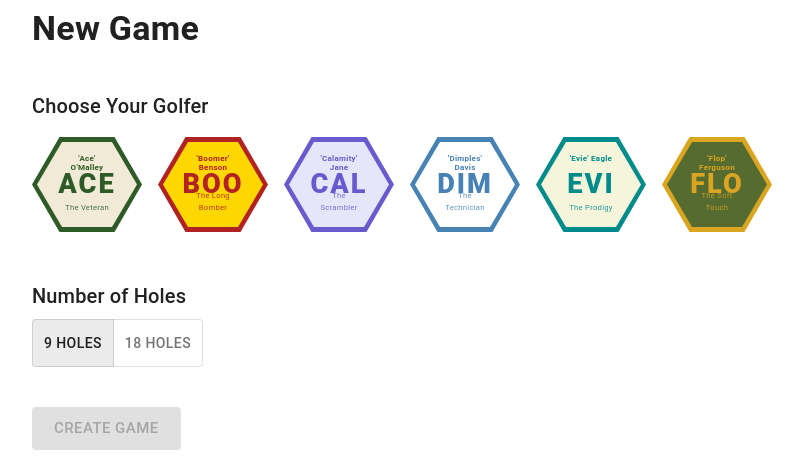
NewGamePage › Start Game button is enabled after selecting a golfer
This screenshot has width=789, height=470.
Click the button with aria-label "Select 'Ace' O'Malley" at {"x": 87, "y": 184}, box [32,137,142,232]
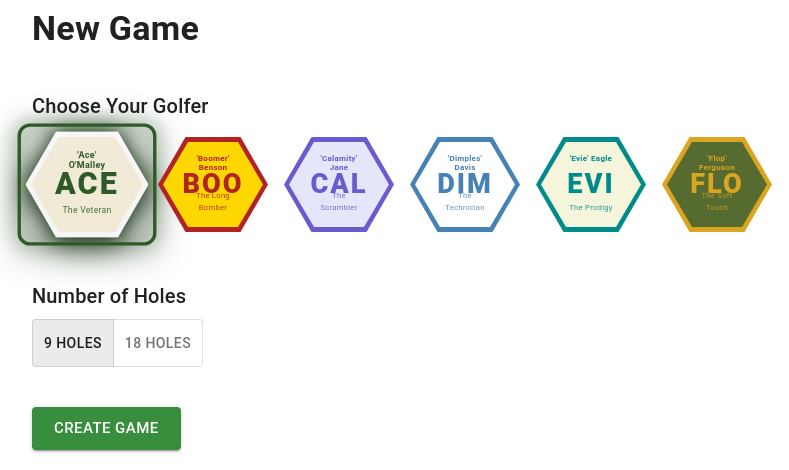
Now the button "Create Game" is enabled, box [32,408,181,450]
